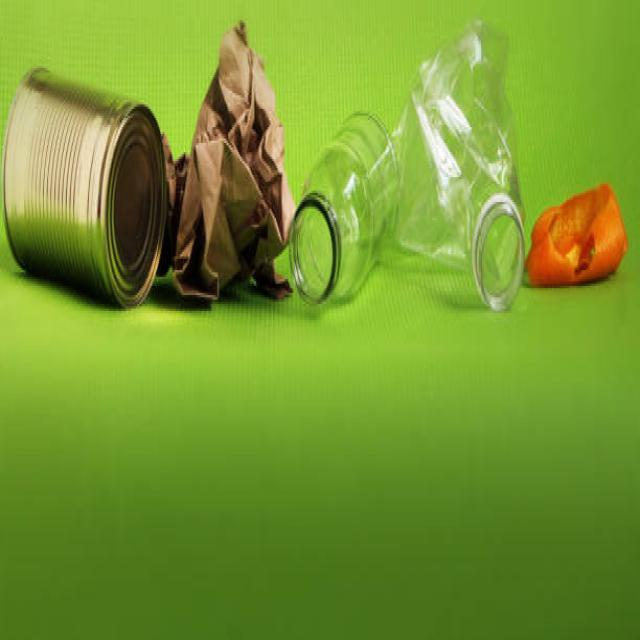metal: (1, 64, 149, 322)
paper: (170, 27, 268, 338)
plastic: (292, 23, 538, 322)
